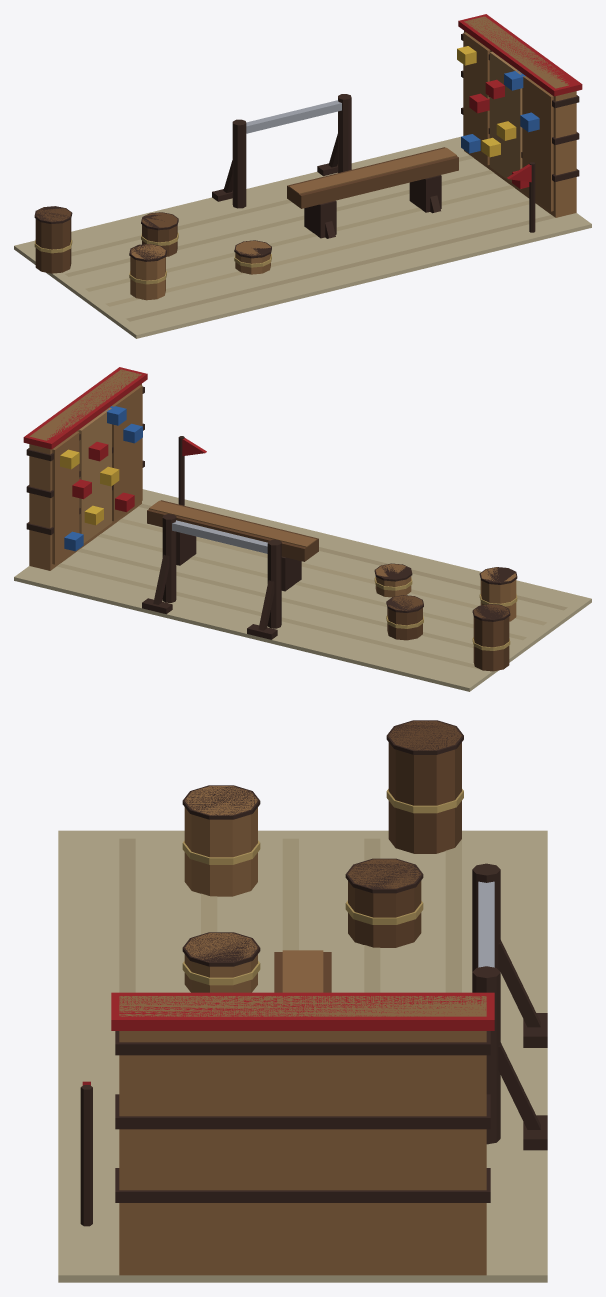
File: Decor_NinjaDojo_Course.fbx
3 renders of one model, top to bottom at view 1: azimuth 30°, elevation 25°; view 2: azimuth 150°, elevation 25°; view 3: azimuth 270°, elevation 25°, orthographic. The views are drawn at different scales.
Parts seen in each view (by area): view 1: Course_Body; view 2: Course_Body; view 3: Course_Body.
Part boxes in pixels (x1,y1,x2,y2): Course_Body: [14, 14, 591, 338]; Course_Body: [14, 367, 591, 691]; Course_Body: [58, 720, 547, 1282].
Size of the model in its own units: 26.4 by 7.2 by 12.
